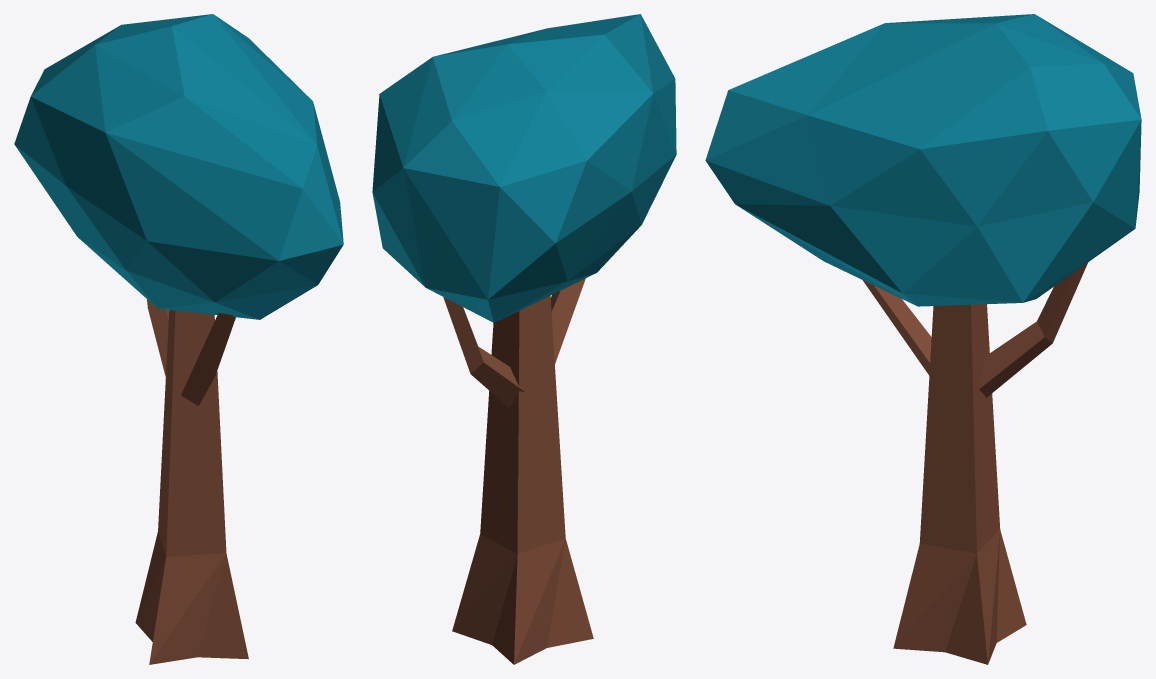
File: Tree_37_summer_blue_vc.fbx
The picture shows the model from 3 angles, left to right: view 1: azimuth 30°, elevation 25°; view 2: azimuth 150°, elevation 25°; view 3: azimuth 270°, elevation 25°; orthographic projection.
Parts seen in each view (by area): view 1: Tree_37_summer_blue_vc; view 2: Tree_37_summer_blue_vc; view 3: Tree_37_summer_blue_vc.
Boxes of the visible parts, x1,y1,x2,y2 form: Tree_37_summer_blue_vc: [14, 14, 343, 664]; Tree_37_summer_blue_vc: [372, 14, 676, 664]; Tree_37_summer_blue_vc: [705, 14, 1141, 664].
Bounding box in the file's own units: 93.74 × 233 × 151.
